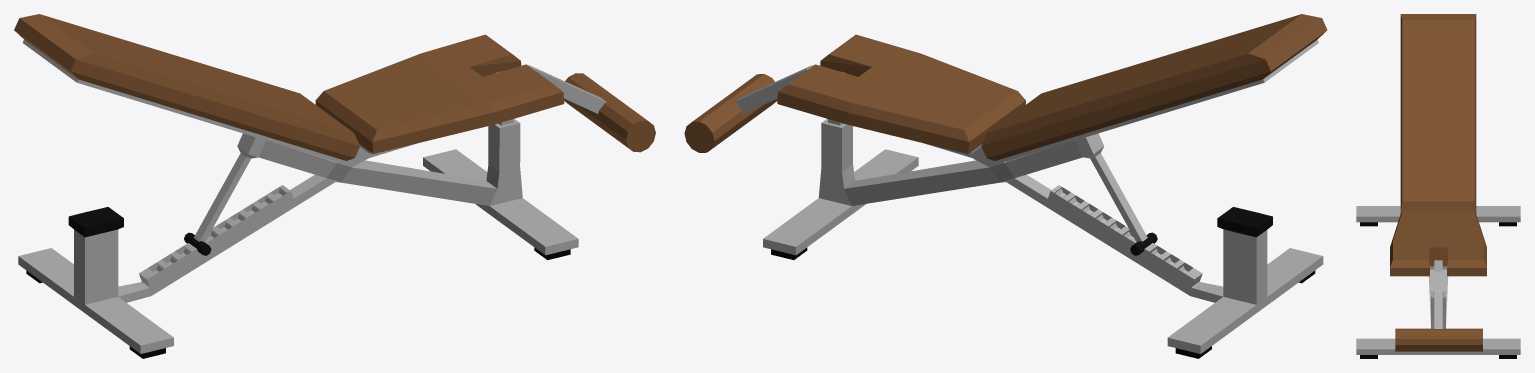
Rendered from GymBench.007.fbx.
The picture shows the model from 3 angles, left to right: view 1: azimuth 30°, elevation 25°; view 2: azimuth 150°, elevation 25°; view 3: azimuth 270°, elevation 25°; orthographic projection. The views are drawn at different scales.
Visible parts, largest first — view 1: GymBench.007; view 2: GymBench.007; view 3: GymBench.007.
Boxes of the visible parts, x1=… form: GymBench.007: x1=14, y1=14, x2=655, y2=358; GymBench.007: x1=684, y1=14, x2=1327, y2=358; GymBench.007: x1=1356, y1=14, x2=1520, y2=358.
Size of the model in its own units: 140 by 66.2 by 51.19.
